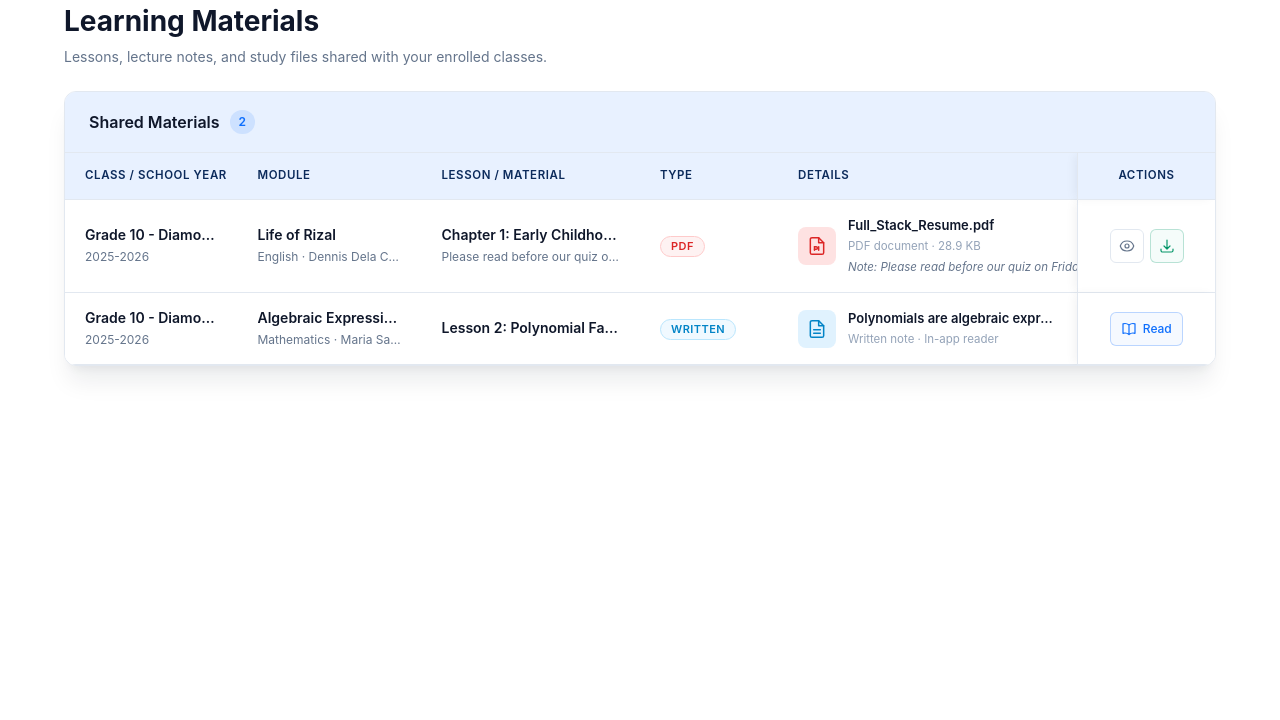
Test: StudentLessonsPage – Learning Materials Table UI › opens the file details preview modal when clicking the file preview button
Expected: the button "Full_Stack_Resume.pdf" is shown, top-left (848, 216), bottom-right (1057, 235)
Step 1. Click the button named "Preview details for Chapter 1: Early Childhood" → [1126, 246], box top-left (1110, 229), bottom-right (1144, 263)
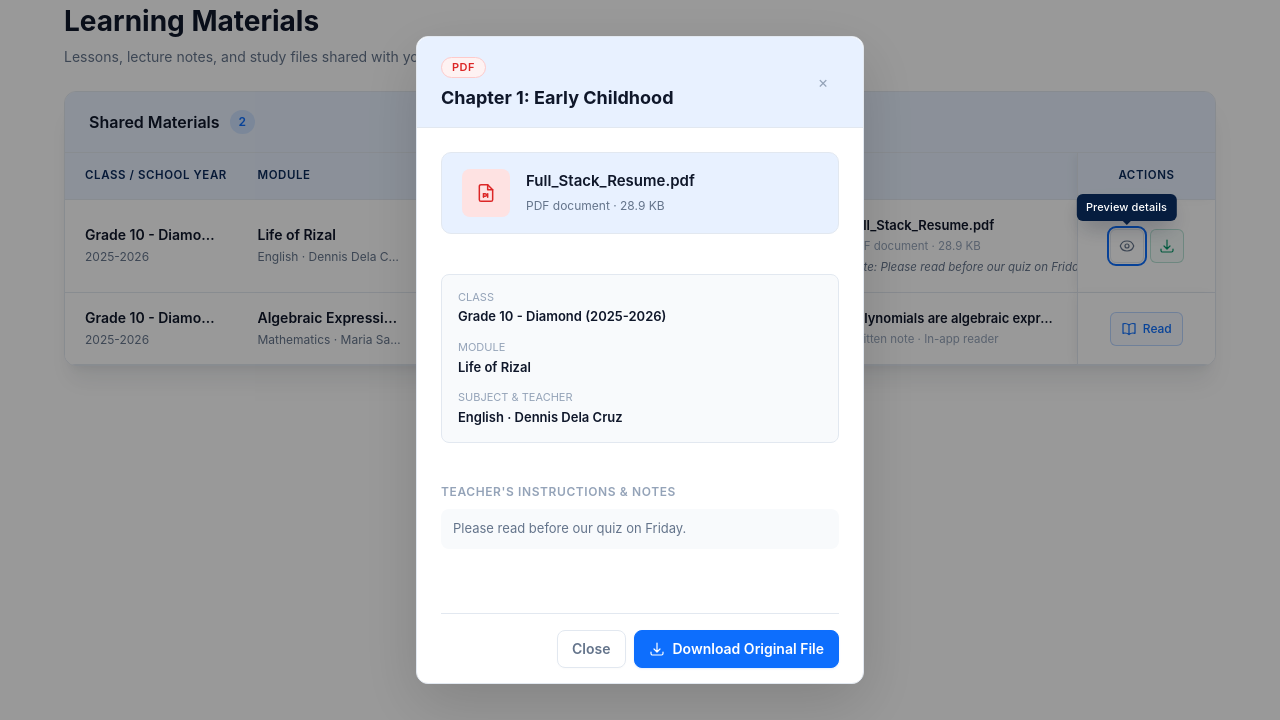
Expected: the text "Teacher's Instructions & Notes" is shown, top-left (441, 484), bottom-right (676, 499)
Expected: the text "Please read before our quiz on Friday." is shown, top-left (441, 509), bottom-right (839, 549)
